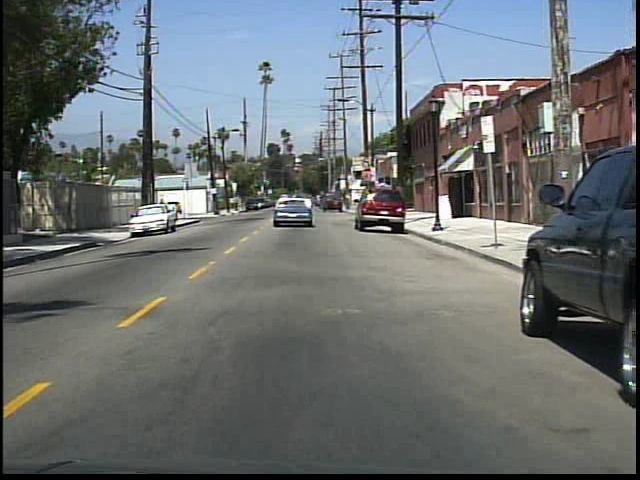person: (171, 199, 183, 223)
